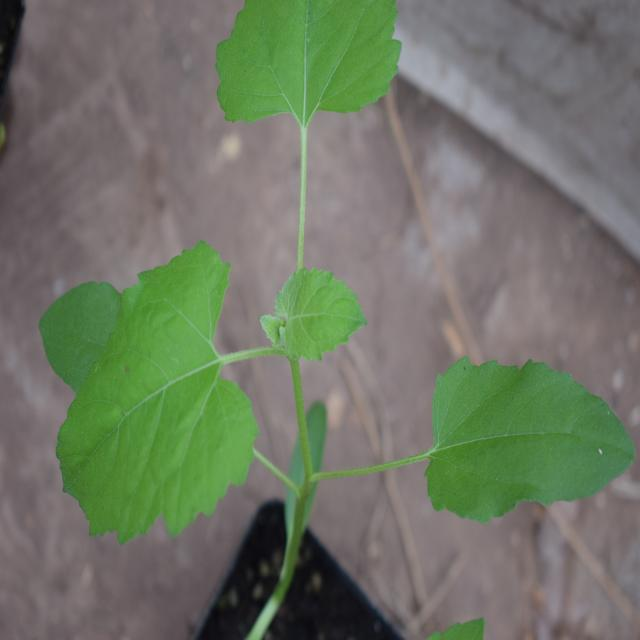cocklebur: (46, 9, 612, 562)
